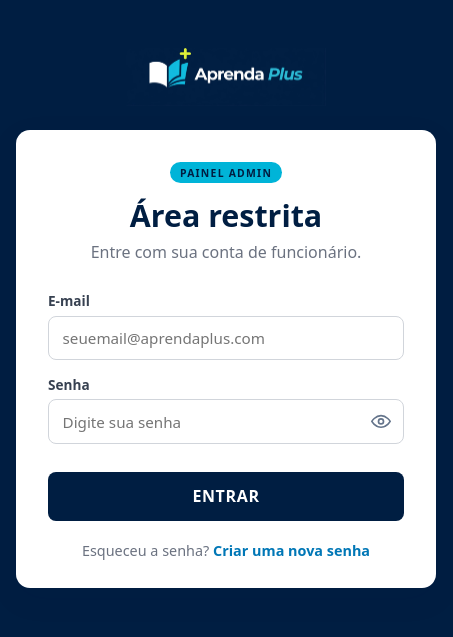
Test: senha errada mostra mensagem
Type "admin@teste.com" into the field labelled "E-mail" at (226, 338), box top-left (48, 316), bottom-right (404, 360)
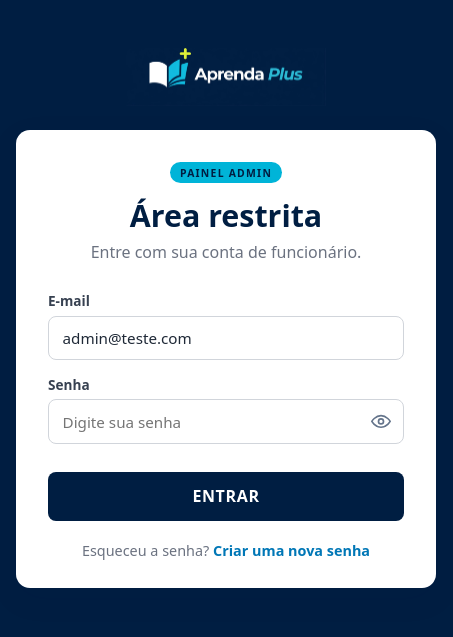
Type "admin123" into the password field labelled "Senha" at (226, 422), box top-left (48, 399), bottom-right (404, 444)
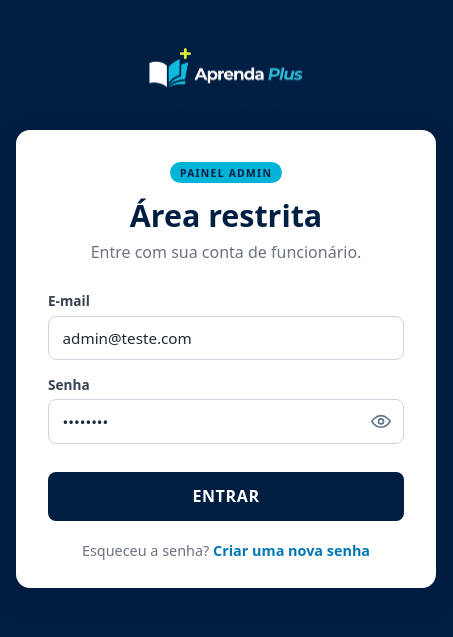
Click the button "ENTRAR" at (226, 496), box top-left (48, 472), bottom-right (404, 521)
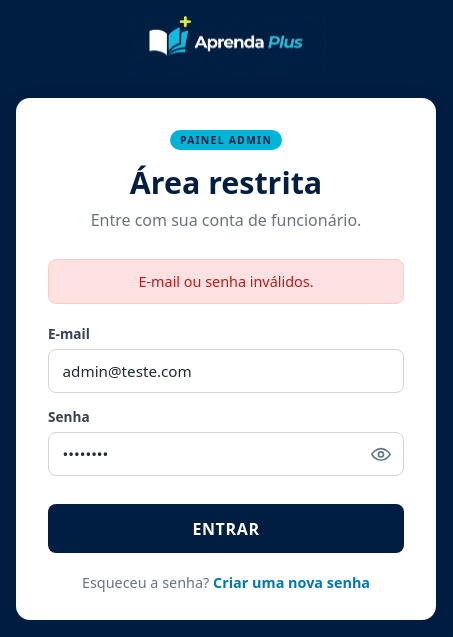
Check: the text "E-mail ou senha inválidos." is shown, box top-left (48, 259), bottom-right (404, 304)
